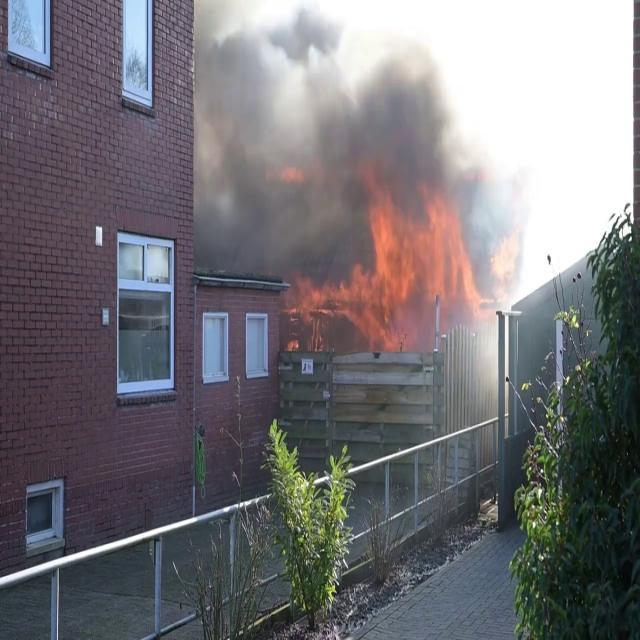Fire: (292, 188, 482, 351)
Smoke: (194, 4, 496, 256)
